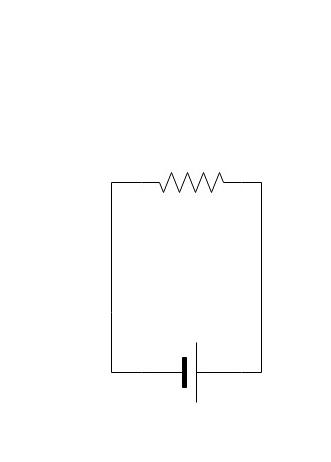resistor: (143, 157, 238, 209)
